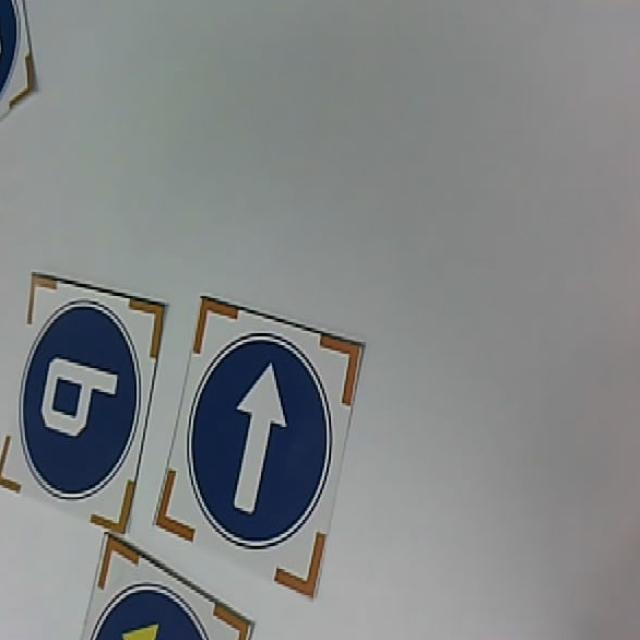parking: (0, 270, 163, 535)
straight: (152, 293, 369, 596)
turn: (68, 532, 256, 640)
